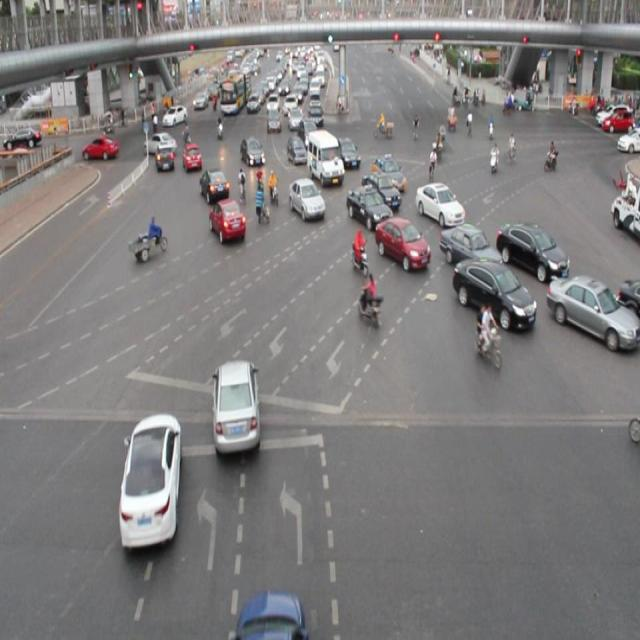car: (120, 405, 181, 550), (544, 273, 640, 345), (451, 256, 534, 329), (209, 357, 262, 456), (497, 218, 567, 282), (231, 586, 306, 640), (438, 220, 502, 271), (372, 215, 429, 269), (414, 184, 464, 228), (286, 176, 326, 221), (347, 183, 389, 225), (359, 168, 400, 210), (206, 200, 245, 241), (370, 152, 407, 192), (199, 167, 230, 206), (143, 129, 178, 157), (338, 130, 361, 172), (239, 134, 266, 169), (617, 271, 640, 310), (154, 140, 176, 176), (84, 137, 118, 160), (284, 133, 307, 167), (180, 140, 202, 173)
truck: (305, 128, 344, 187)
